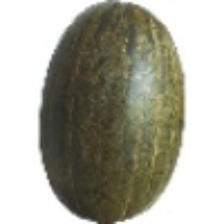honeydew: (23, 45, 185, 217)
